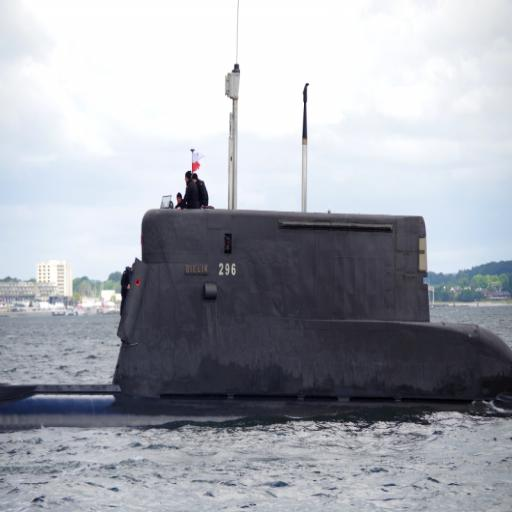submarine: (3, 204, 512, 428)
